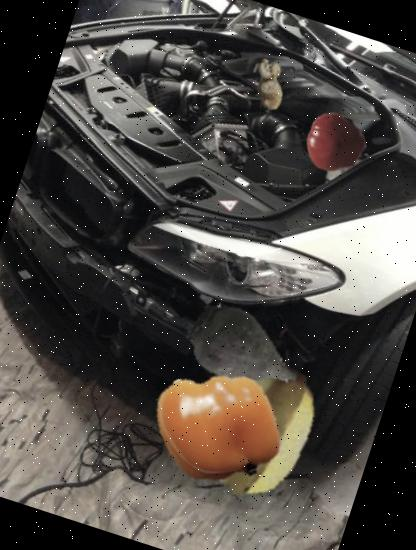Beetroot: (167, 277, 319, 429)
Carambula: (165, 340, 344, 518)
Ginger: (236, 50, 304, 118)
Pepper: (144, 351, 292, 500)
Tomato: (294, 106, 372, 183)
